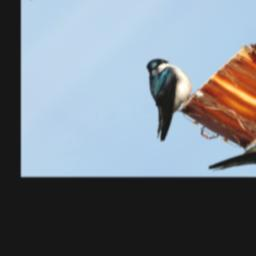Swallow: (99, 54, 221, 144)
